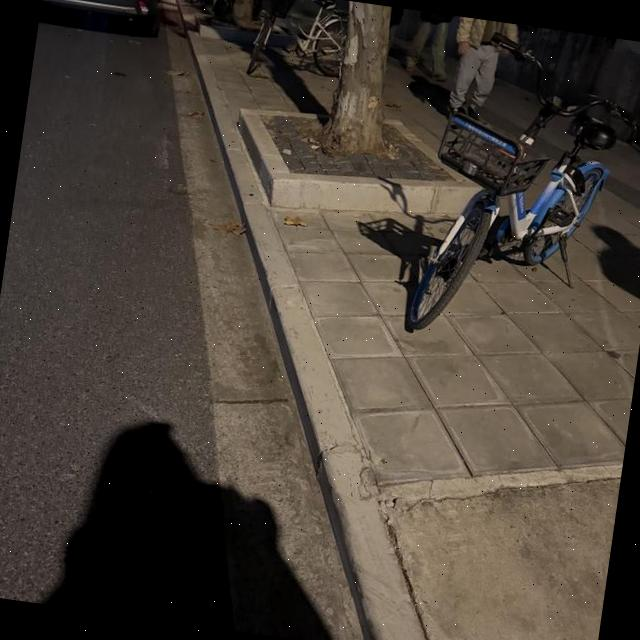curb: (191, 34, 424, 640), (239, 110, 479, 219)
